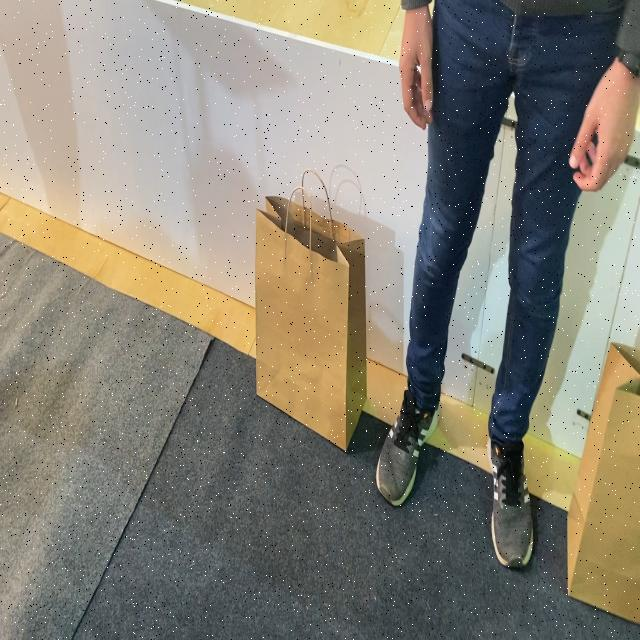paper bag: (255, 168, 366, 452)
